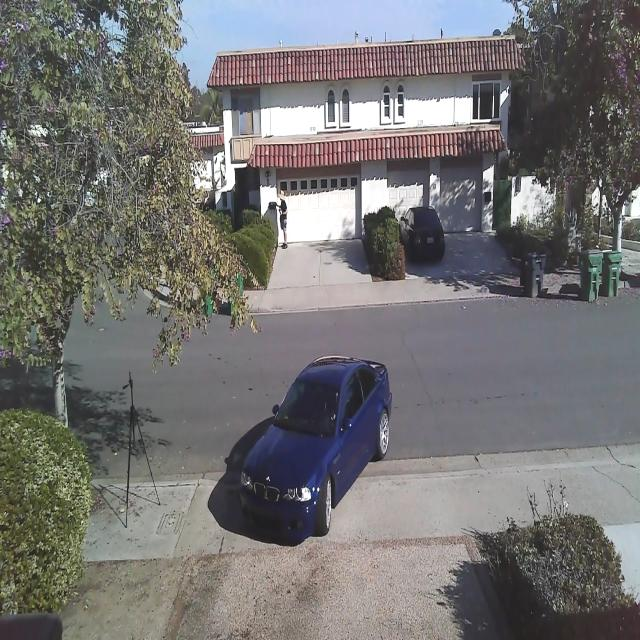Carbeetle: (232, 350, 398, 546)
Civilian: (399, 205, 445, 263)
